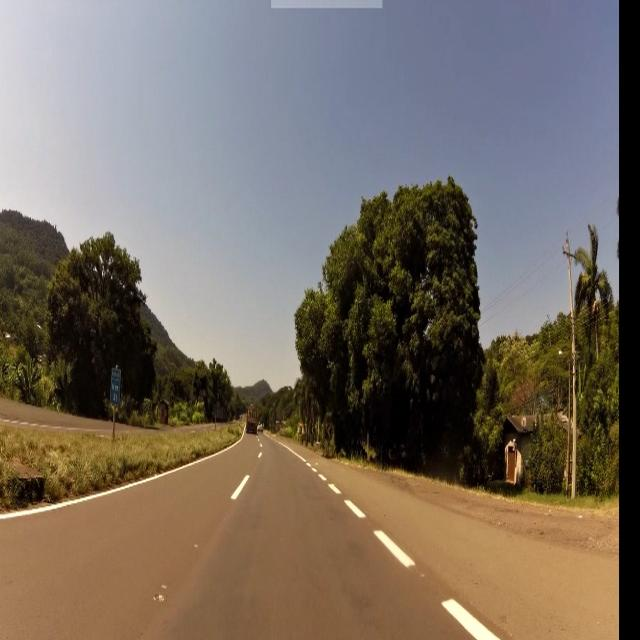RQ: (111, 366, 122, 407)
